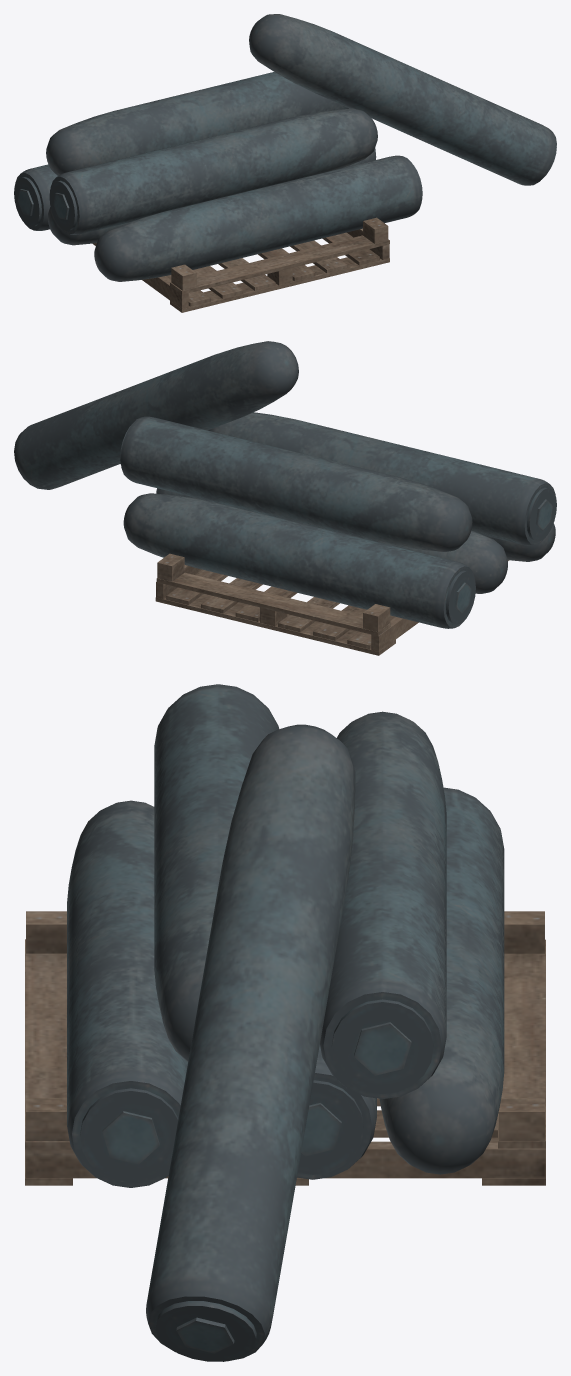
The model's file is SM_Missile_Pallet_4.fbx.
The picture shows the model from 3 angles, top to bottom: view 1: azimuth 30°, elevation 25°; view 2: azimuth 150°, elevation 25°; view 3: azimuth 270°, elevation 25°; orthographic projection. The views are drawn at different scales.
Parts seen in each view (by area): view 1: SM_Missile_Pallet_4_LOD0; view 2: SM_Missile_Pallet_4_LOD0; view 3: SM_Missile_Pallet_4_LOD0.
Part boxes in pixels (left/top/right/bottom): SM_Missile_Pallet_4_LOD0: left=14, top=14, right=556, bottom=312; SM_Missile_Pallet_4_LOD0: left=14, top=341, right=556, bottom=655; SM_Missile_Pallet_4_LOD0: left=25, top=684, right=545, bottom=1361.
Size of the model in its own units: 283 by 130 by 114.
Materials: 2 (2 with a texture image).
